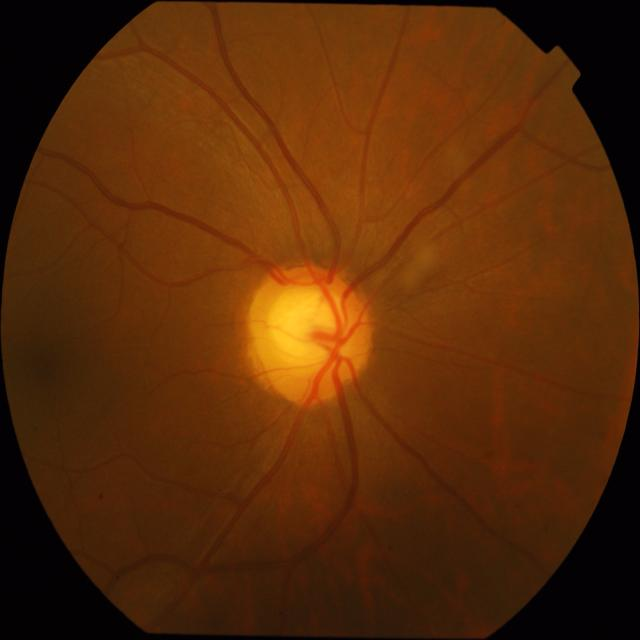OC: (262, 279, 356, 390)
OD: (247, 262, 370, 406)
